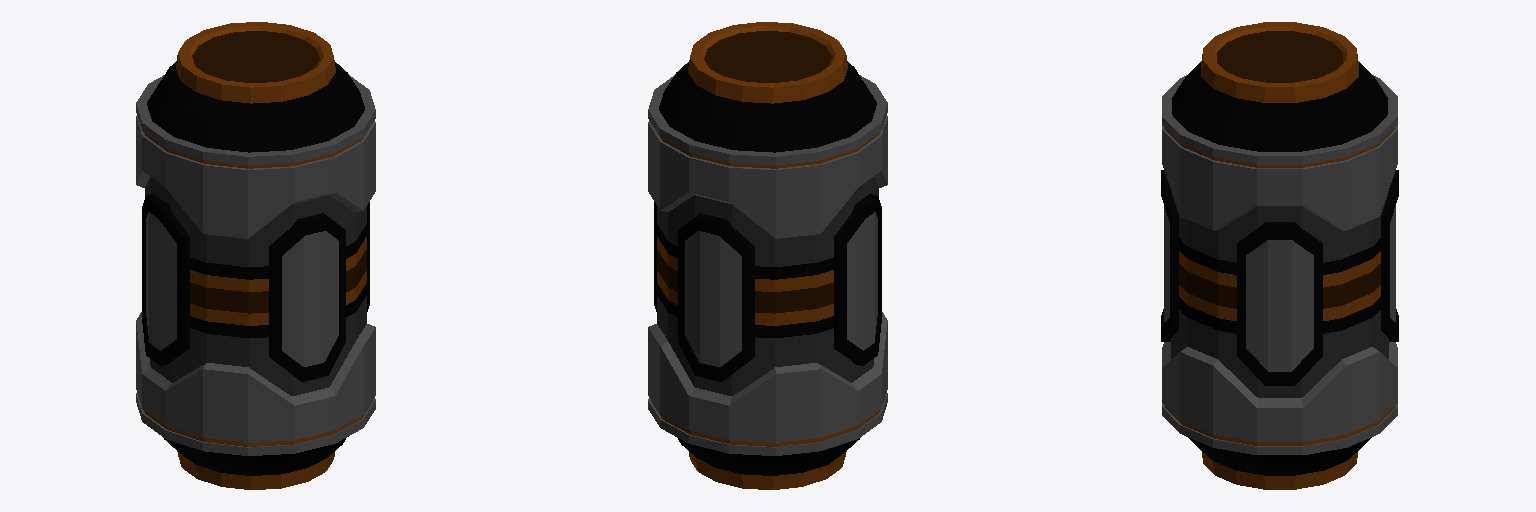
File: Props_Capsule.obj
The picture shows the model from 3 angles: view 1: azimuth 30°, elevation 25°; view 2: azimuth 150°, elevation 25°; view 3: azimuth 270°, elevation 25°; orthographic projection.
Parts seen in each view (by area): view 1: Props_Capsule_Cylinder.014; view 2: Props_Capsule_Cylinder.014; view 3: Props_Capsule_Cylinder.014.
Part boxes in pixels (bbox=[...]): Props_Capsule_Cylinder.014: bbox=[136, 22, 375, 489]; Props_Capsule_Cylinder.014: bbox=[648, 22, 887, 489]; Props_Capsule_Cylinder.014: bbox=[1161, 22, 1398, 489].
Size of the model in its own units: 0.8693 by 1.62 by 0.8693.